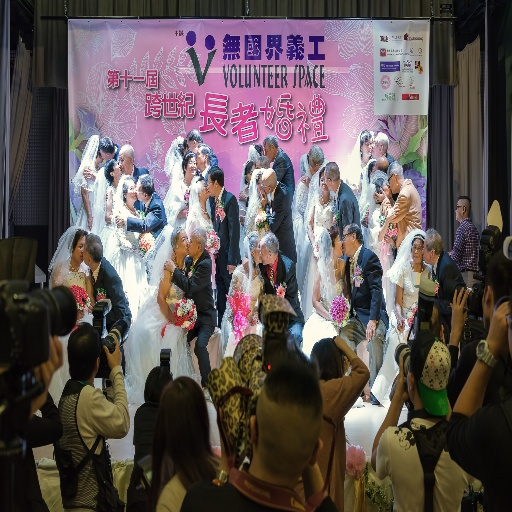hand: (33, 332, 64, 411), (487, 298, 511, 360), (449, 285, 468, 340), (393, 355, 411, 404), (102, 337, 123, 372), (365, 318, 378, 344), (333, 333, 348, 355), (385, 201, 400, 223), (372, 186, 386, 205), (161, 256, 175, 273), (258, 187, 268, 209), (81, 166, 96, 180), (395, 315, 405, 332), (299, 174, 311, 188), (114, 211, 125, 226), (240, 255, 249, 272), (343, 355, 350, 375), (75, 307, 83, 323), (87, 213, 93, 232), (227, 264, 235, 276), (313, 246, 319, 261), (87, 301, 93, 315), (383, 235, 392, 243), (104, 190, 108, 203)
